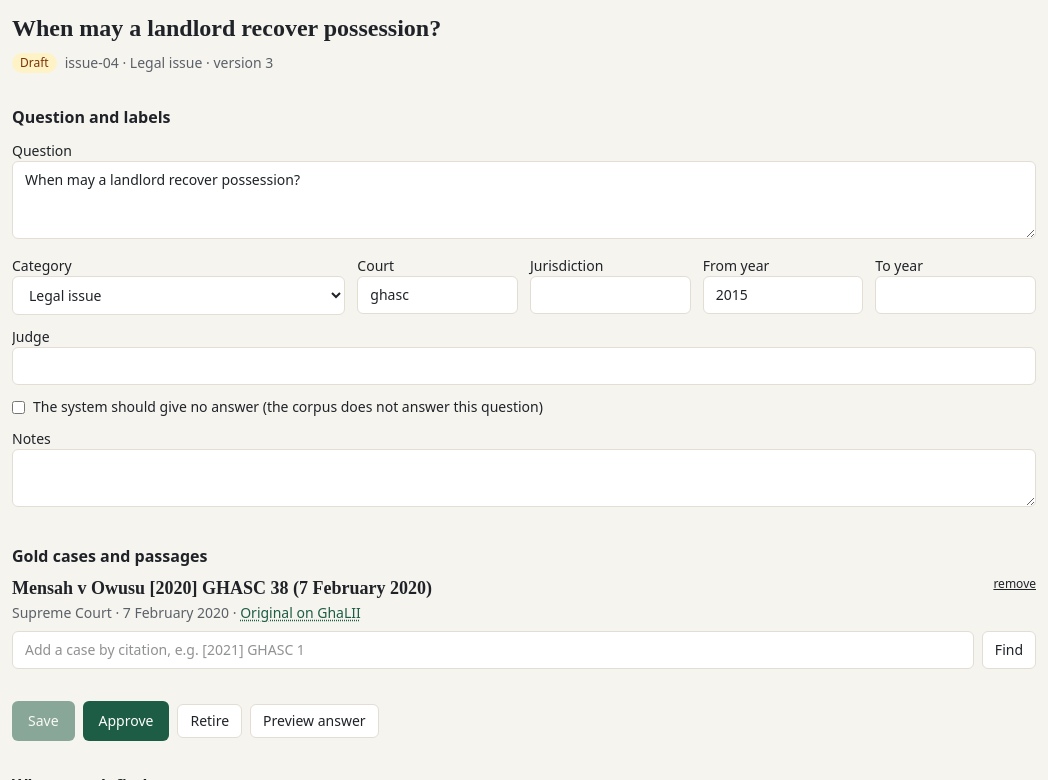
Test: review editor › explains a conflicting save
The width and height of the screenshot is (1048, 780).
Click the button "Approve" at [126, 721], box x1=83 y1=701 x2=170 y2=741
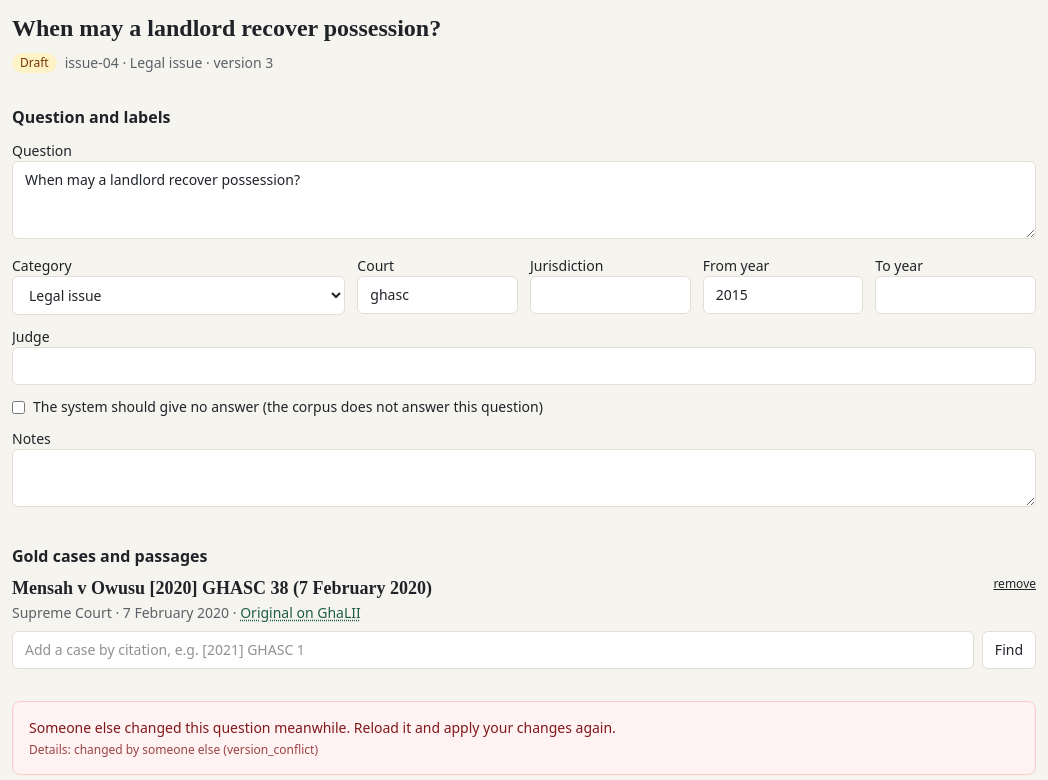
Now the message is shown, box x1=12 y1=701 x2=1036 y2=775
Now the text "Someone else changed this question meanwhile. Reload it and apply your changes again." is shown, box x1=29 y1=718 x2=616 y2=737
